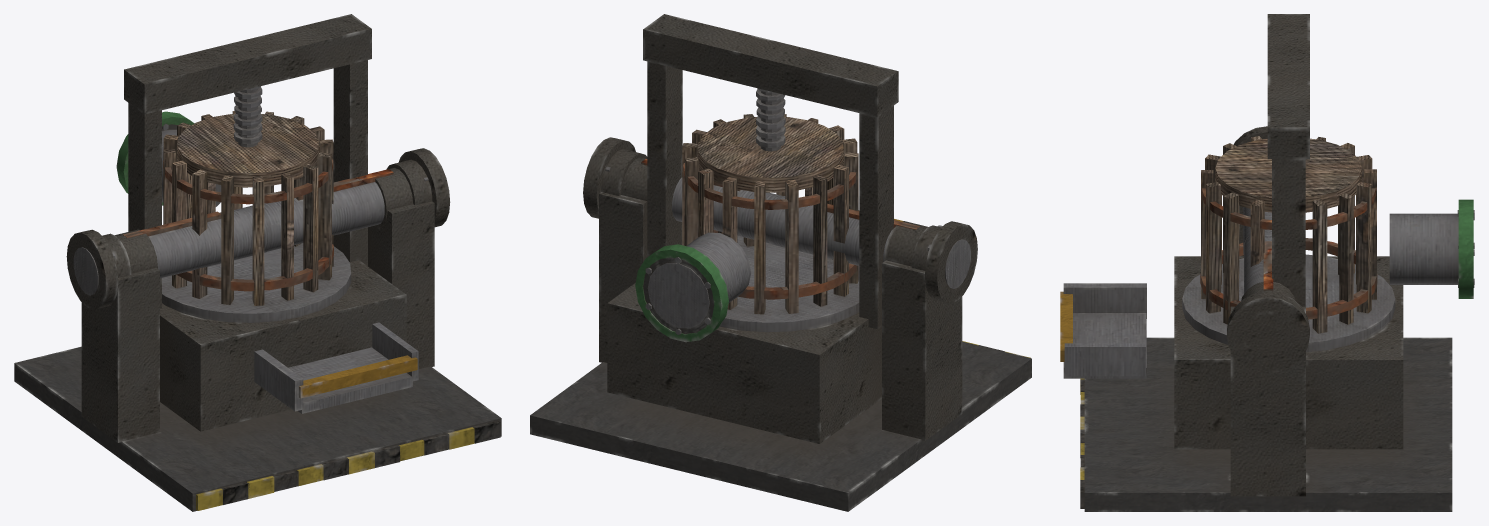
File: feJuicePress_HD.fbx
The picture shows the model from 3 angles, left to right: view 1: azimuth 30°, elevation 25°; view 2: azimuth 150°, elevation 25°; view 3: azimuth 270°, elevation 25°; orthographic projection. The views are drawn at different scales.
Visible parts, largest first — view 1: feJuicePress_Base, FeSpin_DriveShaft, FePiston_Plate; view 2: feJuicePress_Base, FeSpin_DriveShaft, FePiston_Plate; view 3: feJuicePress_Base, FeSpin_DriveShaft, FePiston_Plate.
Boxes of the visible parts, <box> form: feJuicePress_Base: <box>14,14,501,511</box>; FeSpin_DriveShaft: <box>66,148,450,309</box>; FePiston_Plate: <box>177,86,318,187</box>; feJuicePress_Base: <box>530,14,1031,511</box>; FeSpin_DriveShaft: <box>583,137,977,303</box>; FePiston_Plate: <box>697,88,843,192</box>; feJuicePress_Base: <box>1060,14,1474,511</box>; FeSpin_DriveShaft: <box>1227,126,1309,373</box>; FePiston_Plate: <box>1215,138,1362,212</box>.
Bounding box in the file's own units: 1 × 0.9824 × 1.02.
Materials: 1 (1 with a texture image).
